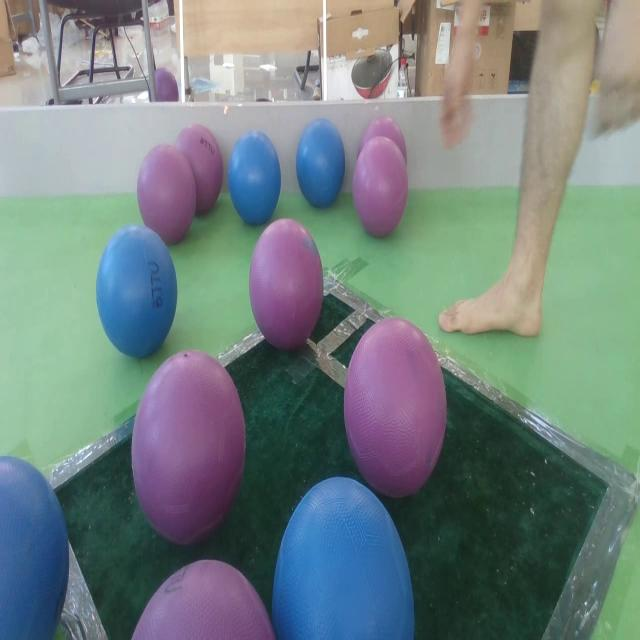blue: (271, 474, 414, 640), (0, 454, 70, 640), (96, 227, 176, 353), (228, 135, 280, 225), (296, 118, 344, 209)
invalid: (133, 351, 245, 545), (342, 312, 443, 493), (130, 559, 272, 640), (248, 215, 324, 350), (351, 138, 409, 242), (138, 144, 198, 242), (176, 116, 223, 212), (357, 114, 409, 170)
